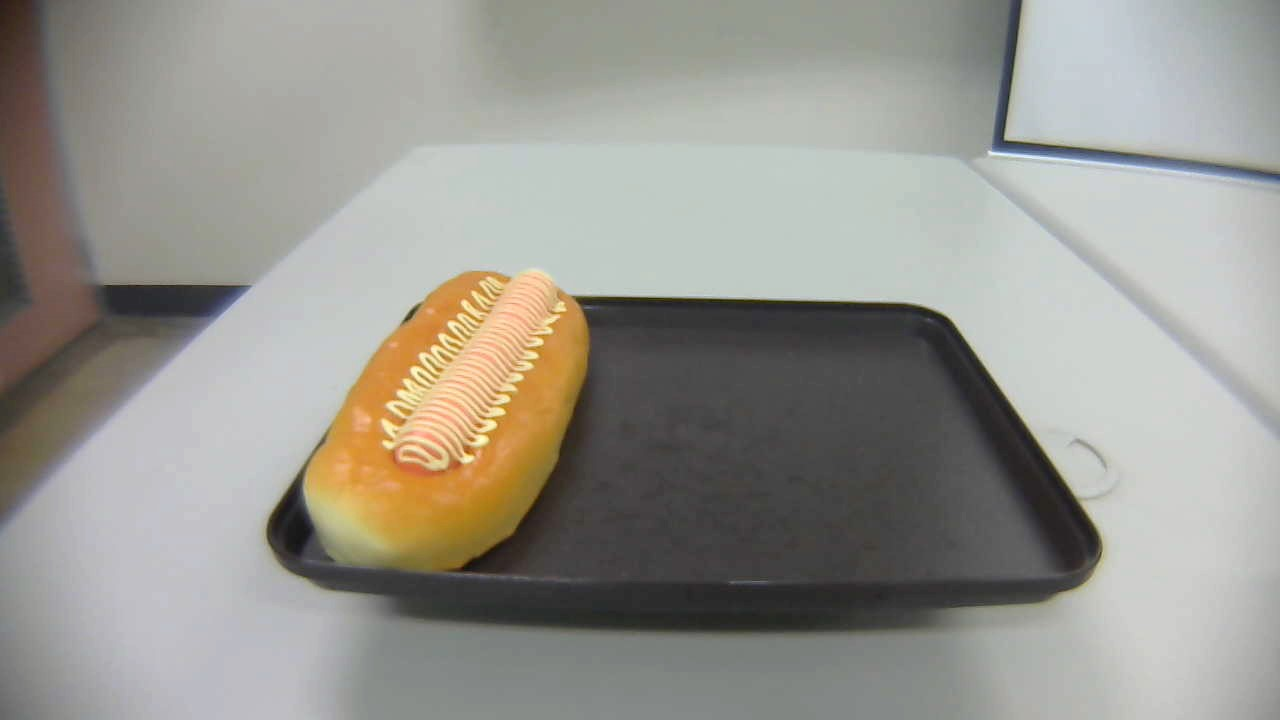hot dog: (301, 268, 589, 574)
